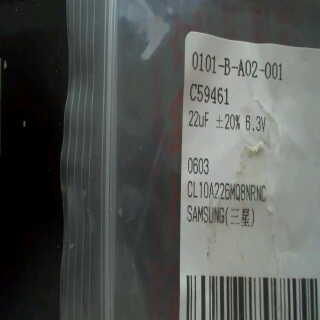22uF: (187, 108, 212, 132)
